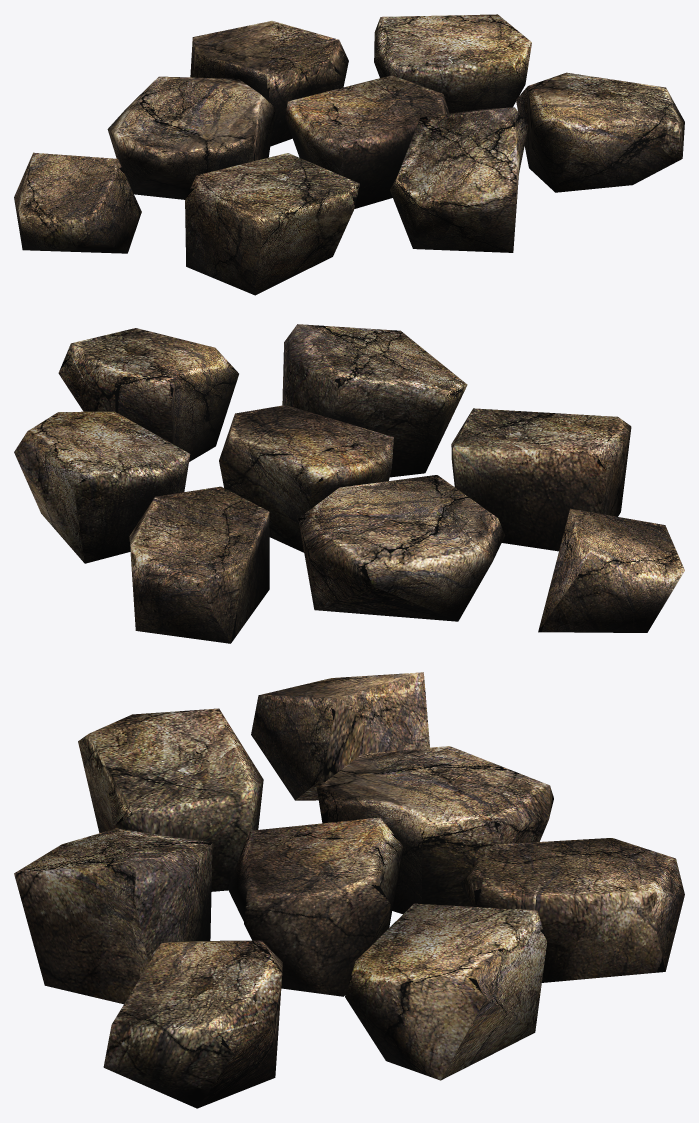
File: rock_006_LOD1.obj
3 views of the same model, one above another, from view 1: azimuth 30°, elevation 25°; view 2: azimuth 150°, elevation 25°; view 3: azimuth 270°, elevation 25° (orthographic). The views are drawn at different scales.
Visible parts, largest first — view 1: rock_006_LOD1 rock_006; view 2: rock_006_LOD1 rock_006; view 3: rock_006_LOD1 rock_006.
Part boxes in pixels (x1,y1,x2,y2): rock_006_LOD1 rock_006: (14, 14, 684, 295); rock_006_LOD1 rock_006: (14, 324, 684, 643); rock_006_LOD1 rock_006: (14, 672, 684, 1108).
Size of the model in its own units: 750 by 133 by 556.
Materials: 1 (1 with a texture image).
